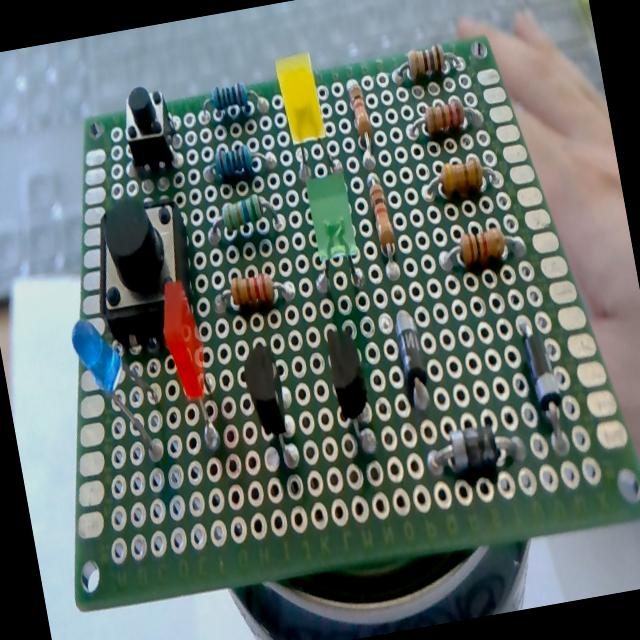diode: (512, 300, 584, 464), (412, 408, 533, 488), (383, 293, 440, 423)
led: (156, 271, 228, 470), (284, 160, 379, 302), (68, 294, 138, 463), (271, 34, 342, 174)
resistor: (199, 183, 292, 256), (431, 218, 537, 278), (206, 262, 300, 322), (362, 167, 407, 291), (410, 152, 508, 208), (384, 34, 472, 96), (338, 64, 386, 175), (401, 90, 492, 146), (194, 74, 272, 130), (195, 140, 280, 188)
switch: (81, 178, 203, 345), (108, 78, 185, 176)
transistor: (234, 329, 314, 488), (314, 307, 384, 474)
